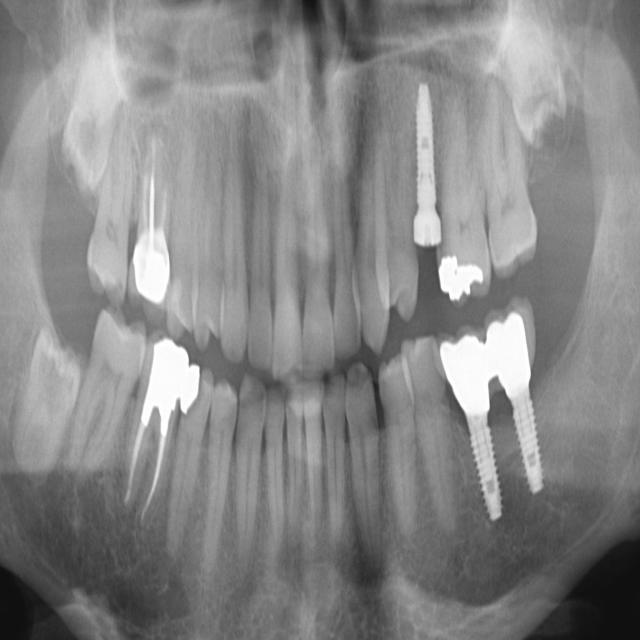dolgu: (440, 249, 490, 306), (183, 363, 211, 412)
implant: (479, 319, 573, 500), (440, 336, 505, 525), (412, 73, 446, 266)
kanal-tedavisi: (120, 389, 180, 533), (132, 118, 172, 254)
kaplama: (129, 233, 172, 298), (148, 340, 184, 409)
